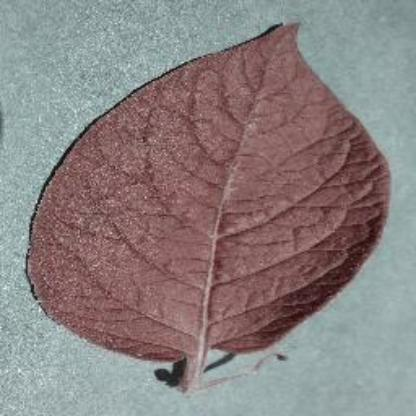Healthy-plant: (24, 15, 400, 392)
